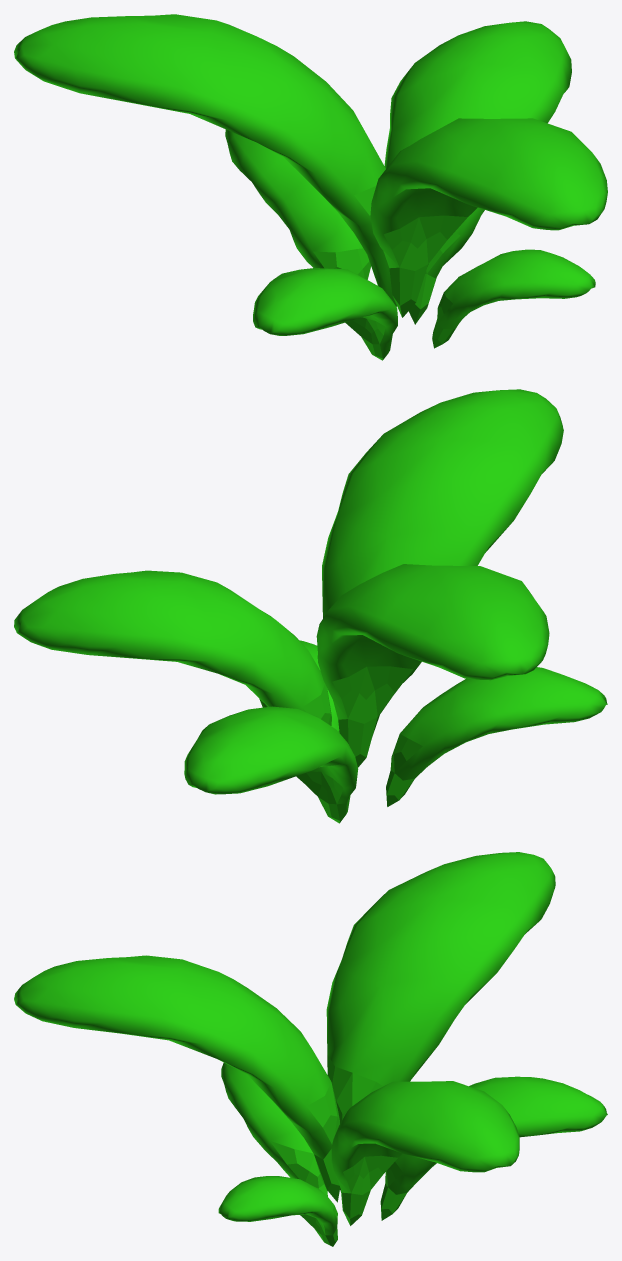
Rendered from dry_grass3.obj.
The picture shows the model from 3 angles, top to bottom: view 1: azimuth 30°, elevation 25°; view 2: azimuth 150°, elevation 25°; view 3: azimuth 270°, elevation 25°; orthographic projection. The views are drawn at different scales.
Parts seen in each view (by area): view 1: dry_grass3; view 2: dry_grass3; view 3: dry_grass3.
Boxes of the visible parts, x1=… form: dry_grass3: x1=14, y1=14, x2=607, y2=360; dry_grass3: x1=14, y1=389, x2=607, y2=823; dry_grass3: x1=14, y1=852, x2=607, y2=1246.
Size of the model in its own units: 3.25 by 1.92 by 3.62.
